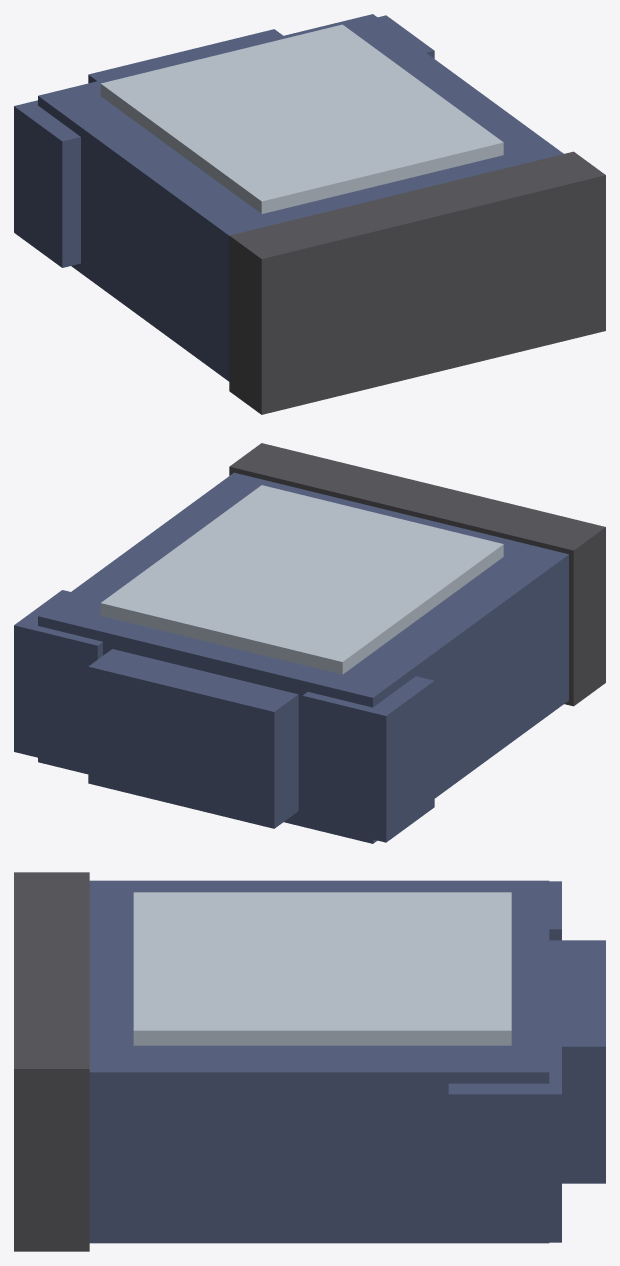
Rendered from armorvest.glb.
3 views of the same model, one above another, from view 1: azimuth 30°, elevation 25°; view 2: azimuth 150°, elevation 25°; view 3: azimuth 270°, elevation 25° (orthographic). The views are drawn at different scales.
Visible parts, largest first — view 1: armorvest; view 2: armorvest; view 3: armorvest.
Boxes of the visible parts, x1,y1,x2,y2 form: armorvest: [14, 14, 605, 414]; armorvest: [14, 443, 605, 843]; armorvest: [14, 872, 605, 1251].
Size of the model in its own units: 0.4 by 0.168 by 0.47.
